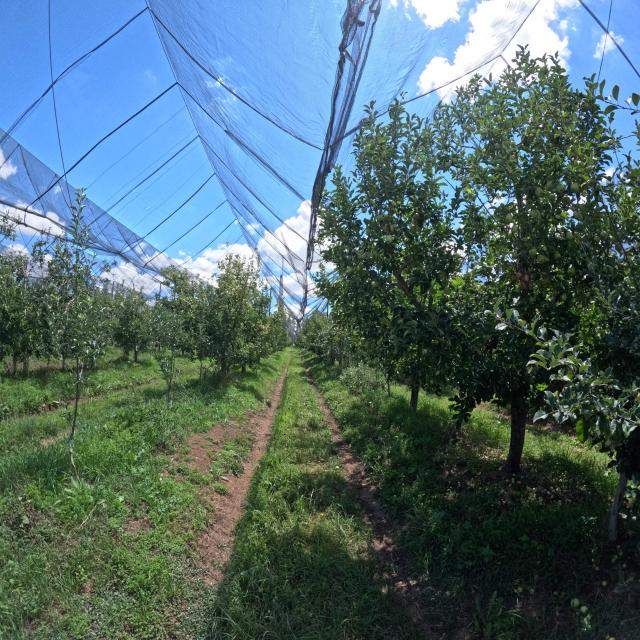-FireBlight-: (517, 271, 529, 290)
